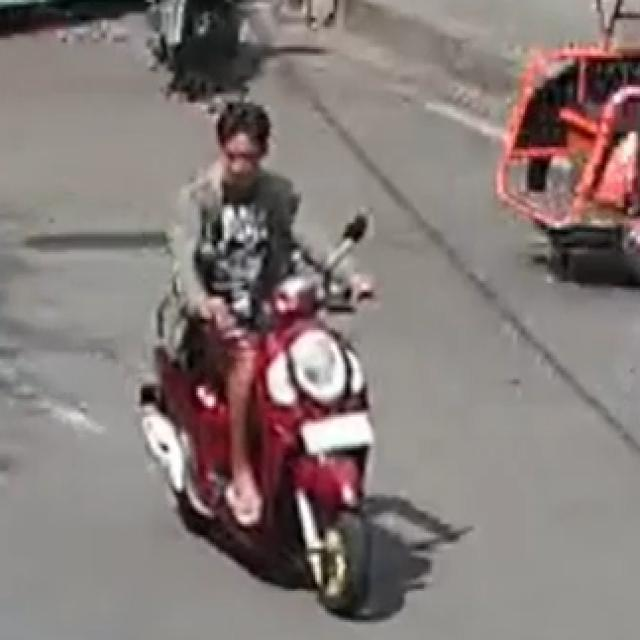motor: (104, 72, 436, 626)
spion: (335, 201, 385, 255), (184, 229, 233, 282)
